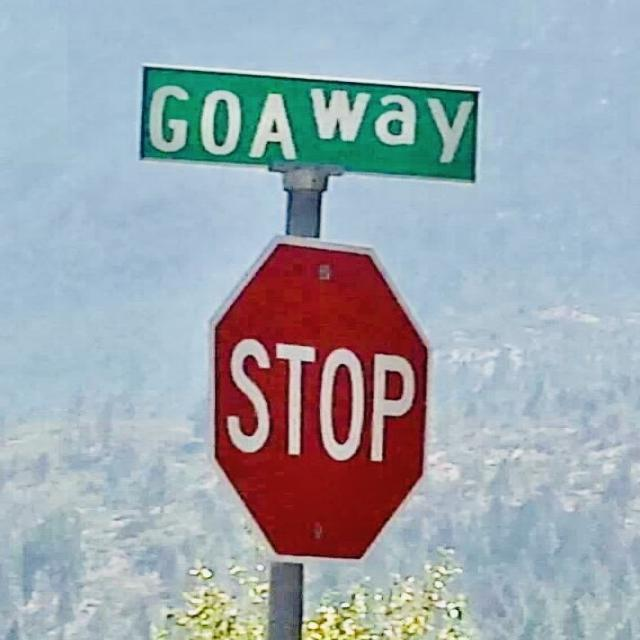stop: (208, 233, 430, 562)
